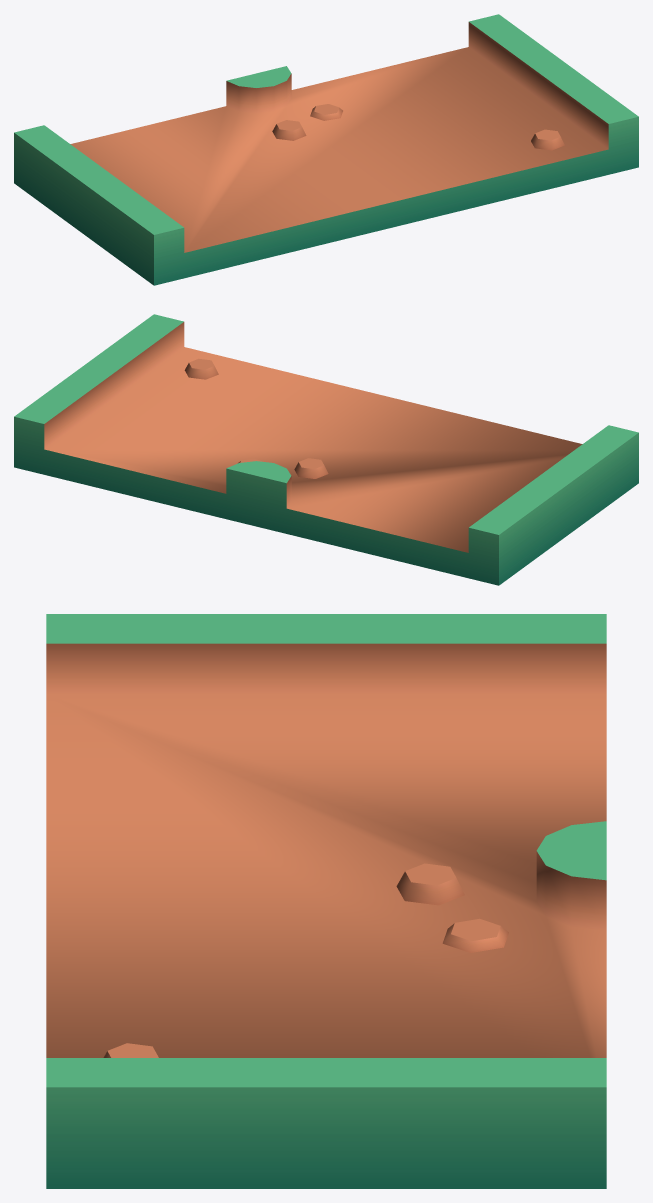
The model's file is kenney-tower-defense-tile-wide-split.glb.
3 views of the same model, one above another, from view 1: azimuth 30°, elevation 25°; view 2: azimuth 150°, elevation 25°; view 3: azimuth 270°, elevation 25° (orthographic). The views are drawn at different scales.
Parts seen in each view (by area): view 1: tile-wide-split; view 2: tile-wide-split; view 3: tile-wide-split.
Boxes of the visible parts, box(x1,y1,x2,y2) form: tile-wide-split: box(14, 14, 638, 285); tile-wide-split: box(14, 314, 638, 585); tile-wide-split: box(46, 614, 606, 1188).
Bounding box in the file's own units: 2 × 0.2 × 1.
1 material, 1 textured.
